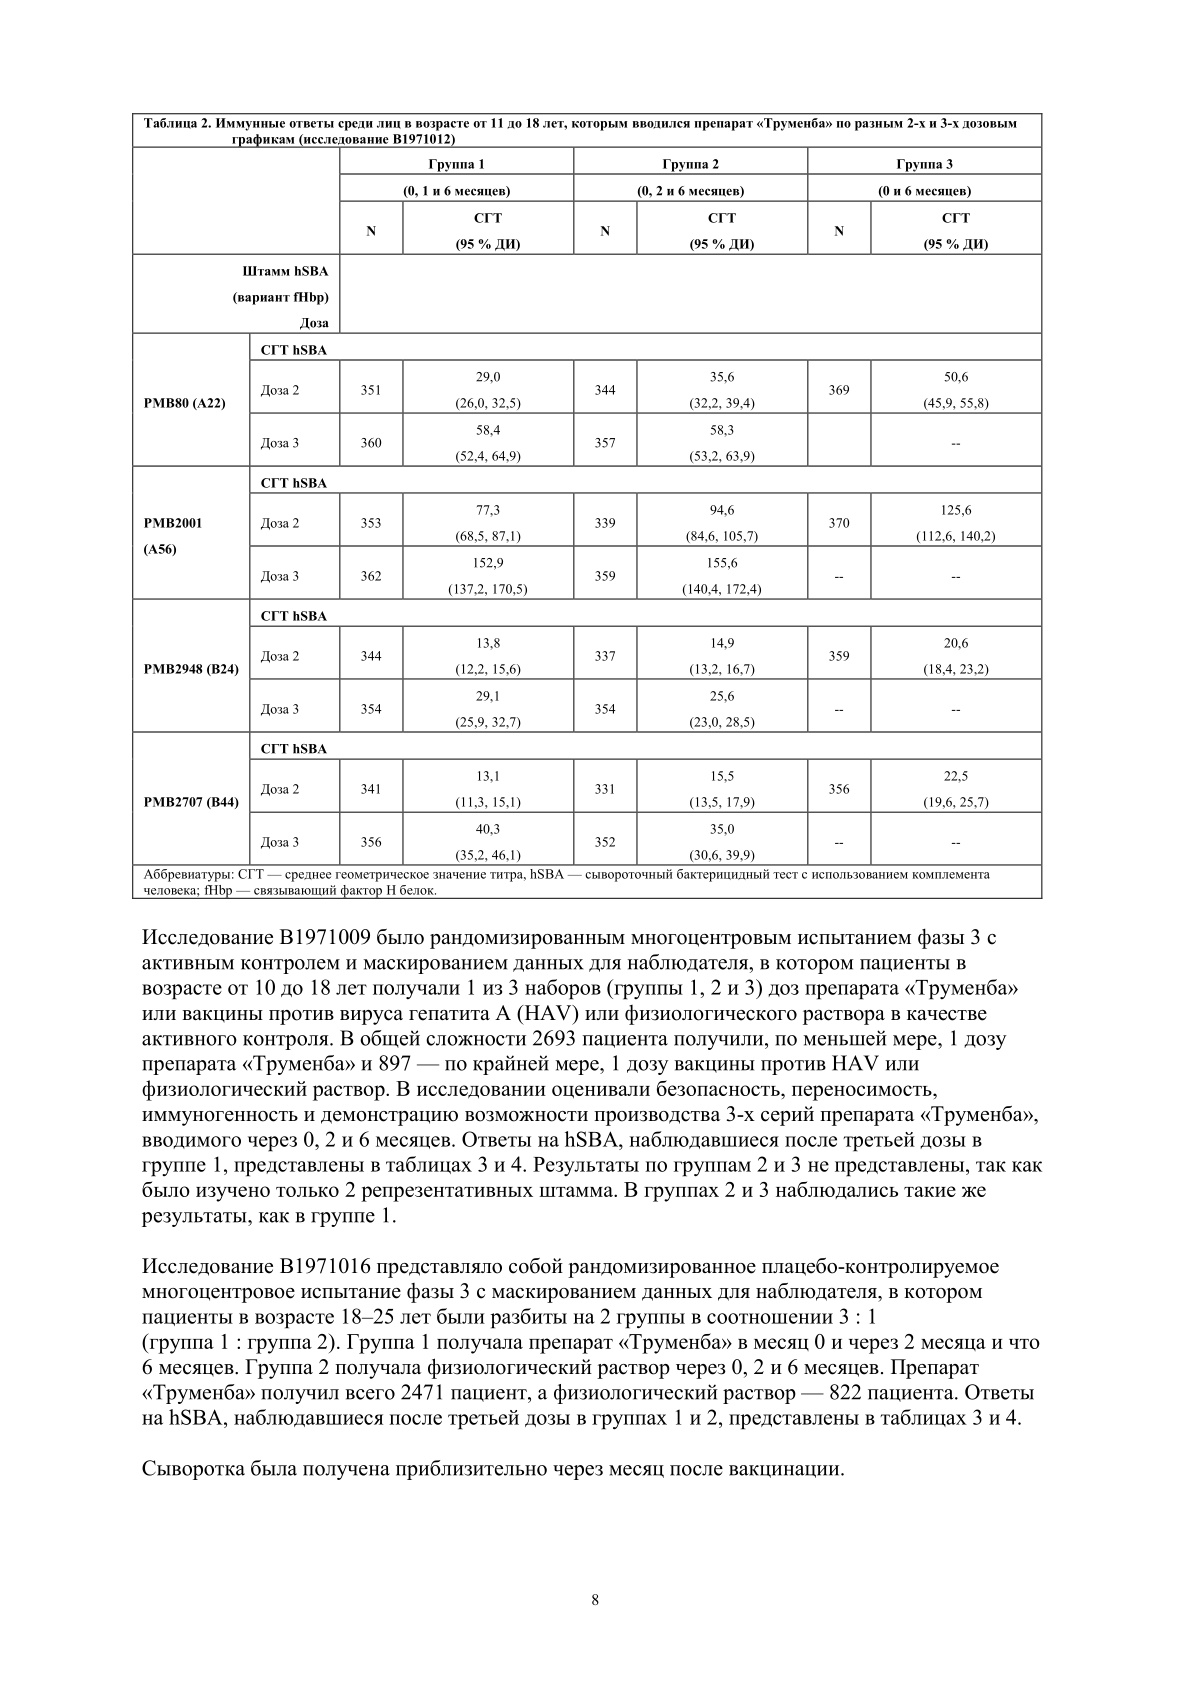merged_cells: (130, 112, 1044, 900)
